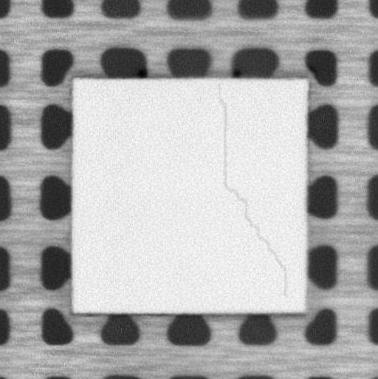DIE_CRACK: (215, 84, 290, 295)
